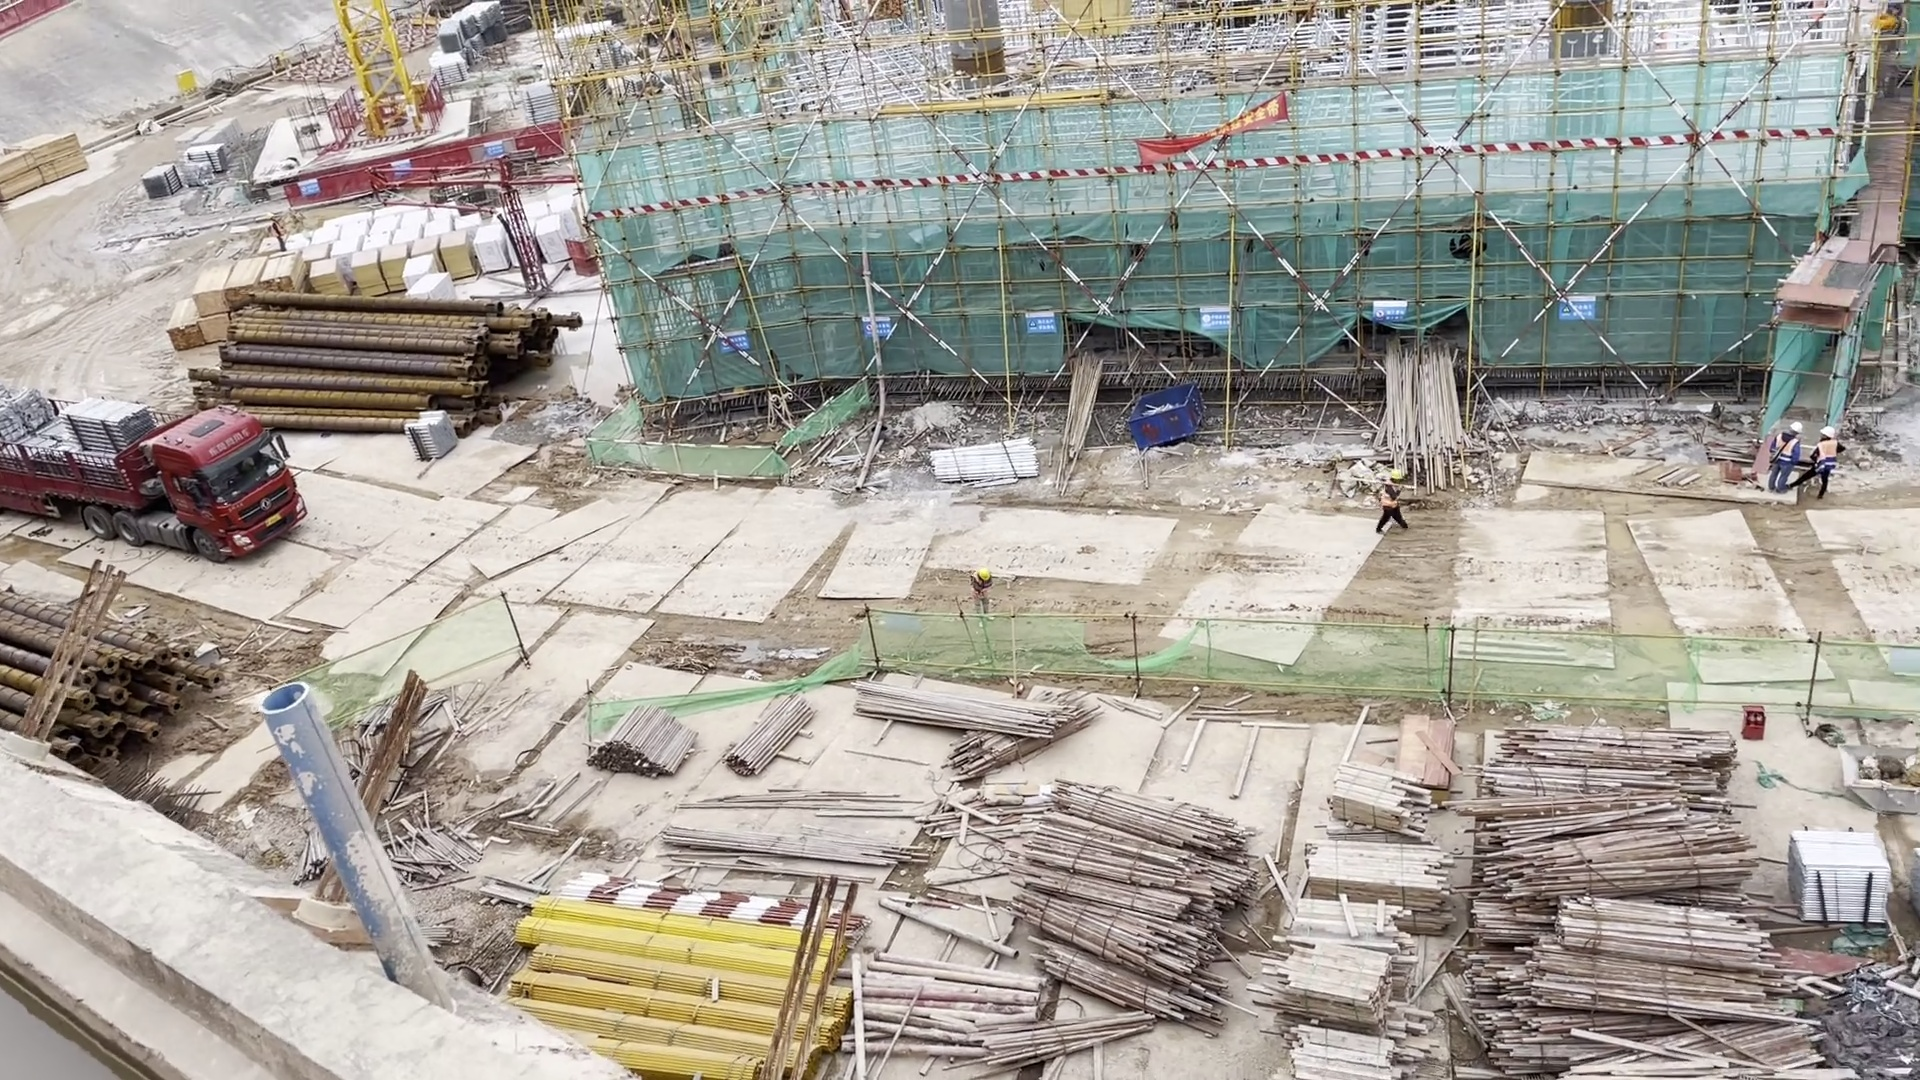board: (160, 254, 229, 346), (2, 130, 88, 199), (232, 258, 350, 292), (352, 251, 411, 296)
helmet: (1786, 417, 1804, 434), (1386, 467, 1406, 483), (1821, 426, 1838, 442), (978, 566, 992, 581)
hopper: (1128, 383, 1205, 452)
person: (1767, 416, 1805, 508), (1372, 465, 1422, 534), (1811, 425, 1845, 511), (965, 565, 1008, 622)
scaffold: (850, 677, 1069, 744), (1786, 822, 1892, 931), (580, 705, 703, 781), (722, 692, 821, 776), (61, 393, 153, 459), (928, 443, 1044, 479), (401, 406, 463, 464)
vest: (1775, 435, 1798, 467), (1815, 444, 1838, 472), (1381, 484, 1398, 509)
wood: (1474, 728, 1774, 1040), (1035, 786, 1256, 1005), (1285, 927, 1438, 1066), (1303, 843, 1447, 933), (1326, 759, 1432, 832)
